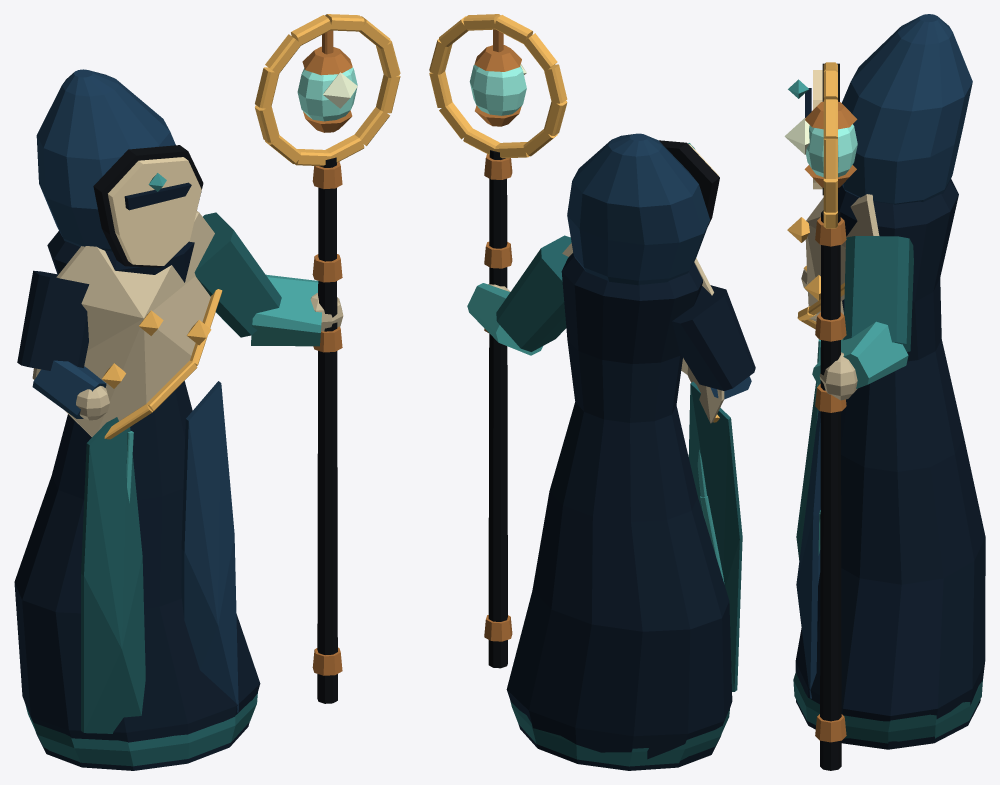
The model's file is class-mage.glb.
3 renders of one model, left to right at view 1: azimuth 30°, elevation 25°; view 2: azimuth 150°, elevation 25°; view 3: azimuth 270°, elevation 25°, orthographic. The views are drawn at different scales.
Visible parts, largest first — view 1: Class Mage.001; view 2: Class Mage.001; view 3: Class Mage.001.
Part boxes in pixels (x1=…): Class Mage.001: x1=14, y1=14, x2=400, y2=770; Class Mage.001: x1=429, y1=14, x2=755, y2=770; Class Mage.001: x1=784, y1=14, x2=985, y2=770.
Size of the model in its own units: 1.13 by 2.09 by 0.537.
1 material, 1 textured.
